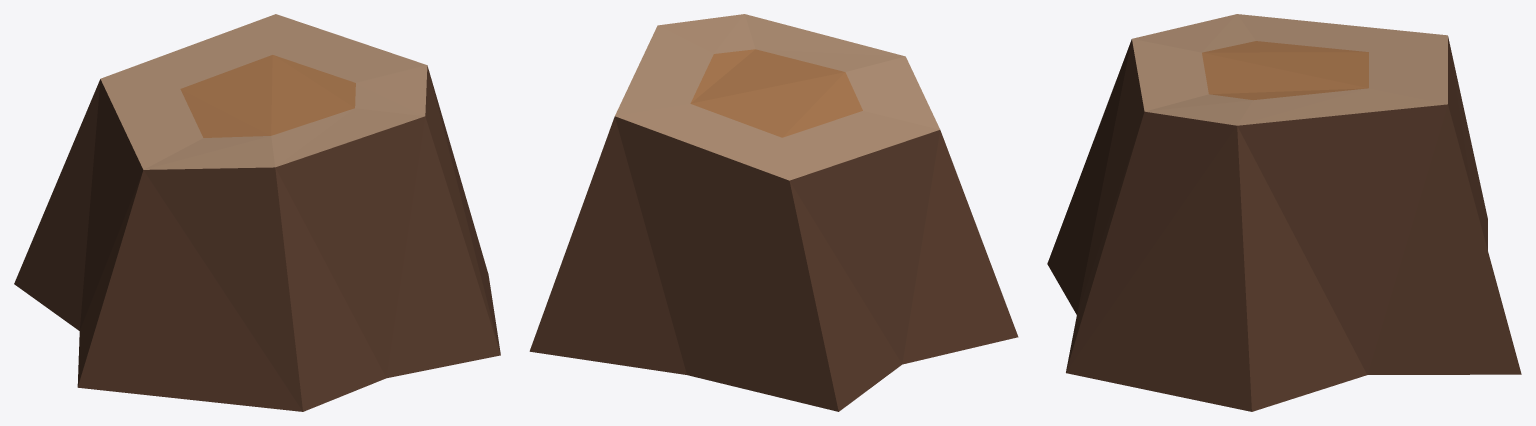
The model's file is TB_D_Env_TrunkC_B.FBX.
3 views of the same model, side by side, from view 1: azimuth 30°, elevation 25°; view 2: azimuth 150°, elevation 25°; view 3: azimuth 270°, elevation 25° (orthographic). The views are drawn at different scales.
Parts seen in each view (by area): view 1: TB_D_Env_TrunkC_B; view 2: TB_D_Env_TrunkC_B; view 3: TB_D_Env_TrunkC_B.
Boxes of the visible parts, x1=… form: TB_D_Env_TrunkC_B: x1=14, y1=14, x2=500, y2=411; TB_D_Env_TrunkC_B: x1=529, y1=14, x2=1018, y2=411; TB_D_Env_TrunkC_B: x1=1047, y1=14, x2=1521, y2=411.
Bounding box in the file's own units: 0.9552 × 0.4971 × 0.854.
